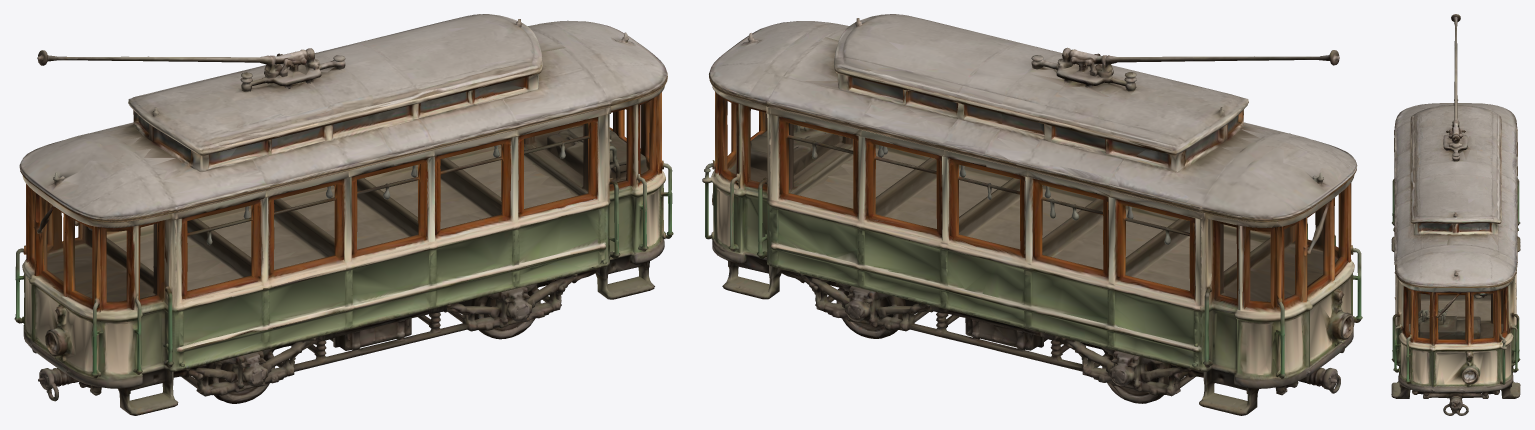
The model's file is pesag_h.glb.
3 views of the same model, side by side, from view 1: azimuth 30°, elevation 25°; view 2: azimuth 150°, elevation 25°; view 3: azimuth 270°, elevation 25° (orthographic). The views are drawn at different scales.
Visible parts, largest first — view 1: tripo_node_93047469-ecc5-48d0-9800-e3ba9a554870; view 2: tripo_node_93047469-ecc5-48d0-9800-e3ba9a554870; view 3: tripo_node_93047469-ecc5-48d0-9800-e3ba9a554870.
Part boxes in pixels (x1,y1,x2,y2): tripo_node_93047469-ecc5-48d0-9800-e3ba9a554870: (14, 14, 673, 415); tripo_node_93047469-ecc5-48d0-9800-e3ba9a554870: (702, 14, 1362, 415); tripo_node_93047469-ecc5-48d0-9800-e3ba9a554870: (1391, 14, 1520, 415).
Size of the model in its own units: 9.2 by 5.31 by 2.68.
1 material, 1 textured.
